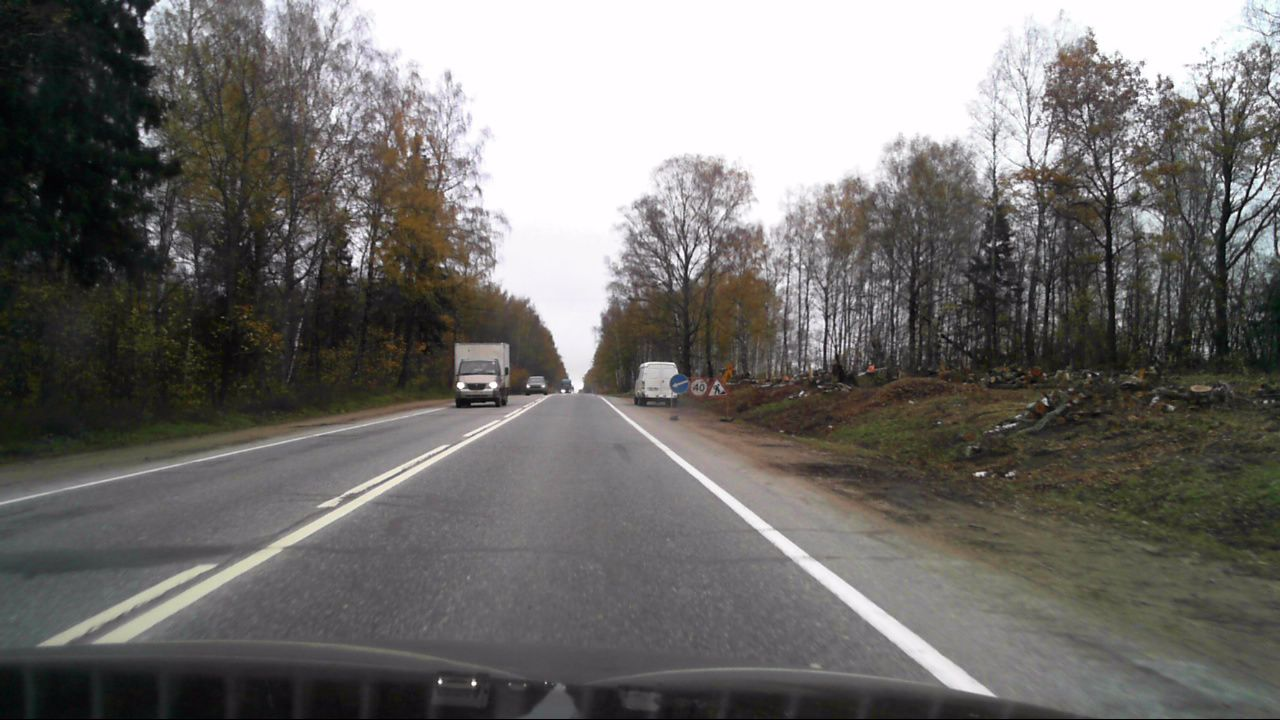speed_warning_40: (690, 378, 708, 396)
